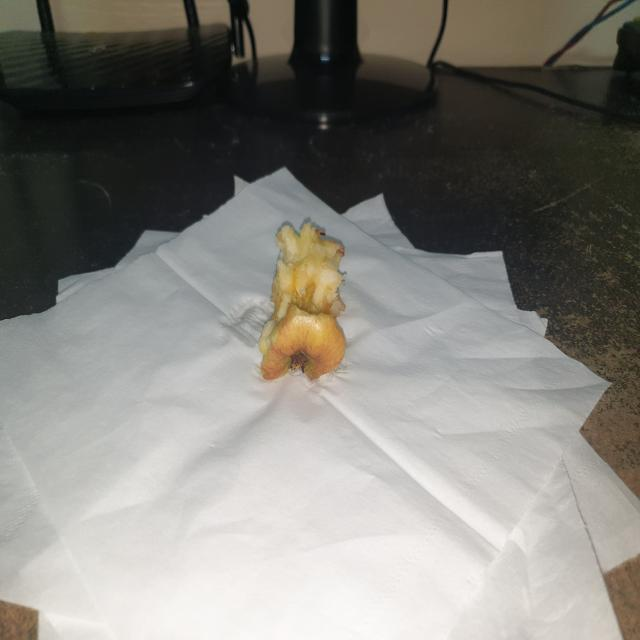apple: (255, 220, 355, 383)
